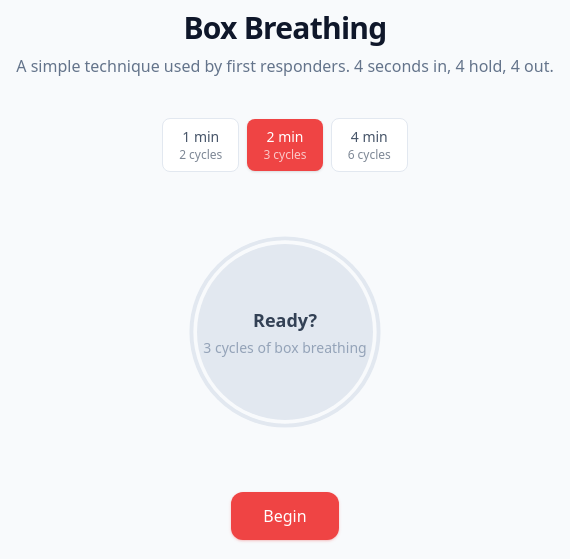
Test: BreathingExercise › starts exercise when Begin is clicked
Click the button "Begin".
click(285, 516)  # box [231, 492, 339, 540]
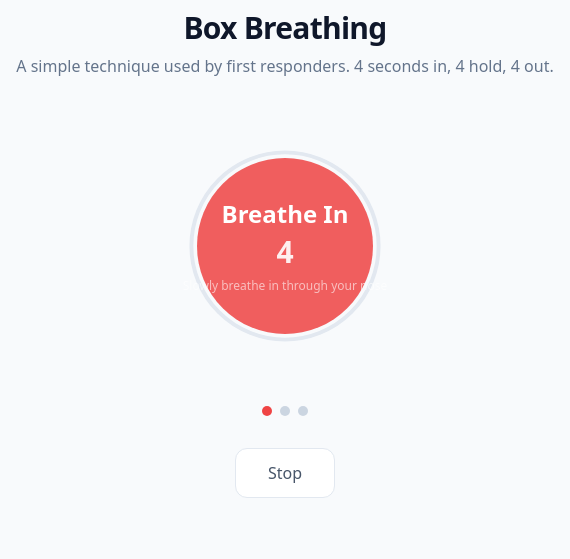
expect the text "Breathe In" is shown: met, box [222, 198, 348, 230]
